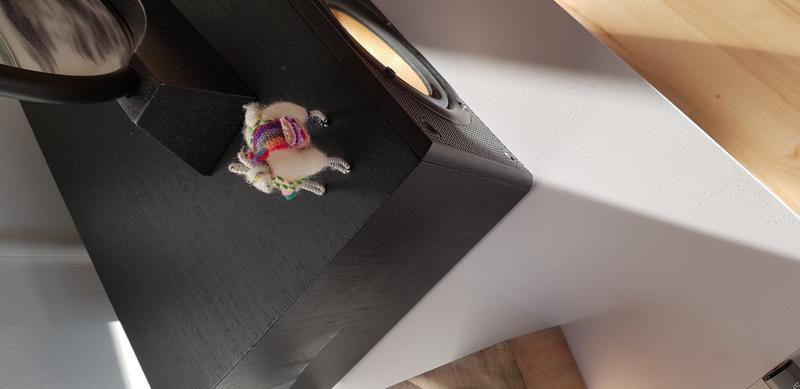Horse-Toy: (209, 85, 359, 212)
